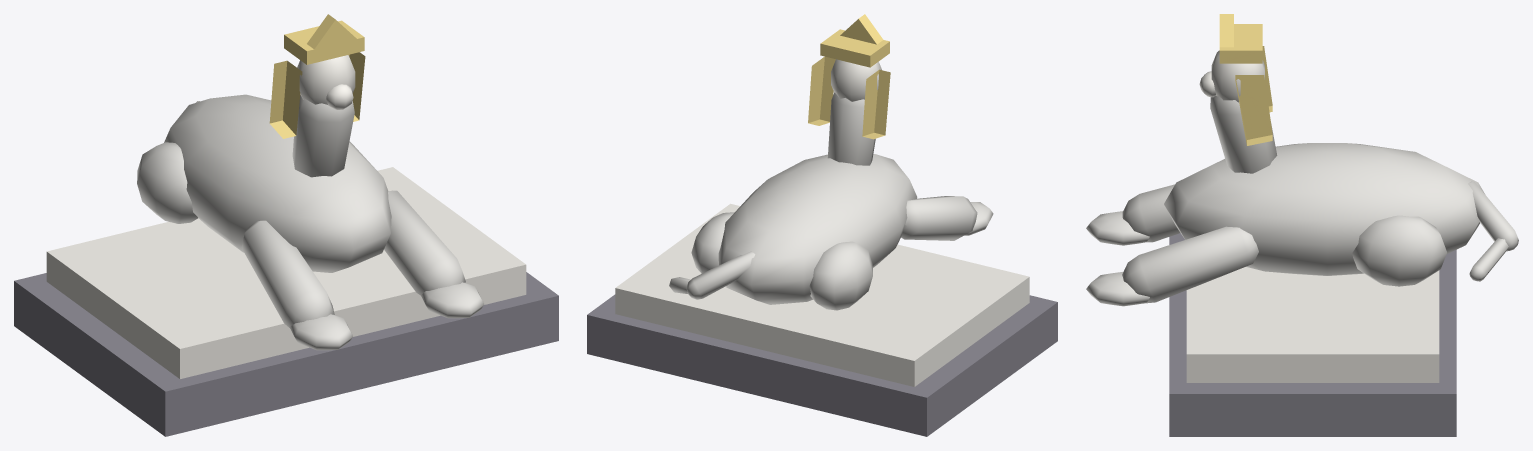
File: mythic-underworld-and-olympus-sphinx-statue-b0d55c32__21441.glb
The picture shows the model from 3 angles, left to right: view 1: azimuth 30°, elevation 25°; view 2: azimuth 150°, elevation 25°; view 3: azimuth 270°, elevation 25°; orthographic projection. The views are drawn at different scales.
Parts seen in each view (by area): view 1: sphinx-statue; view 2: sphinx-statue; view 3: sphinx-statue.
Part boxes in pixels (left/top/right/bottom): sphinx-statue: left=14, top=14, right=558, bottom=436; sphinx-statue: left=587, top=14, right=1057, bottom=436; sphinx-statue: left=1086, top=14, right=1518, bottom=436.
Size of the model in its own units: 3 by 2.55 by 3.01.
